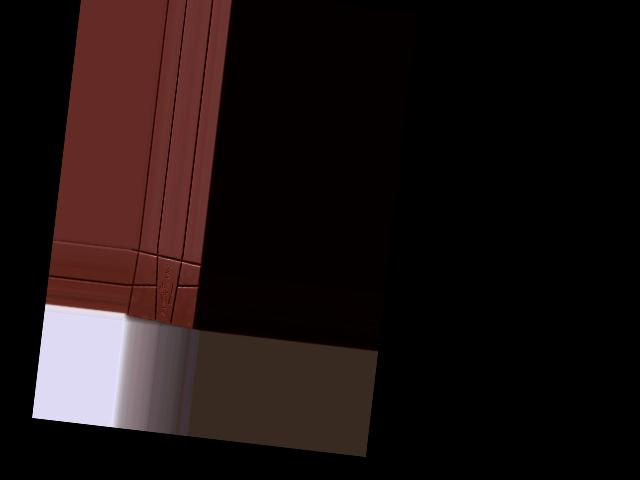chocolate: (123, 244, 206, 331)
